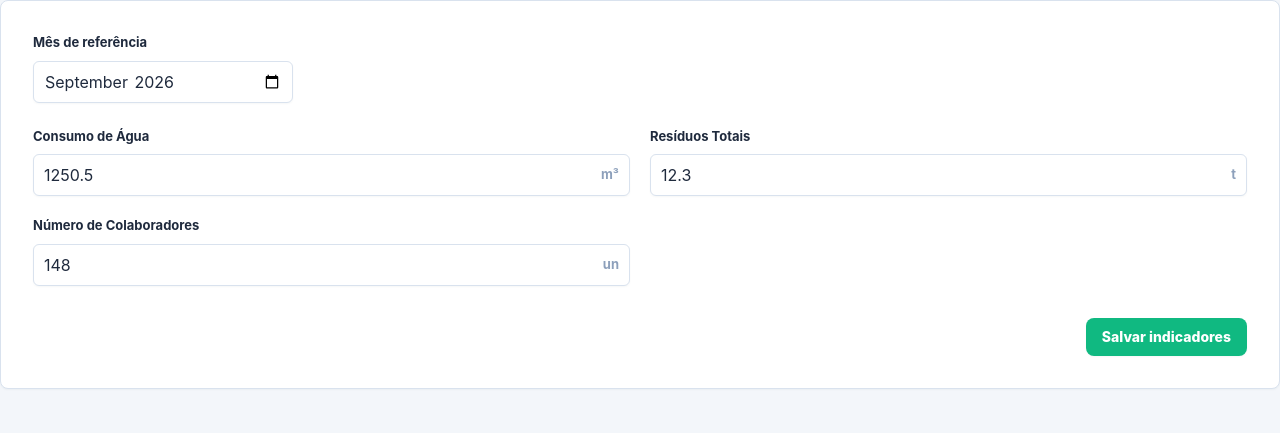
EsgIndicatorsForm › blocks negative numbers
Replace the text in the number field labelled "Consumo de Água" with "-10" at (318,175), box left=44, top=163, right=591, bottom=187
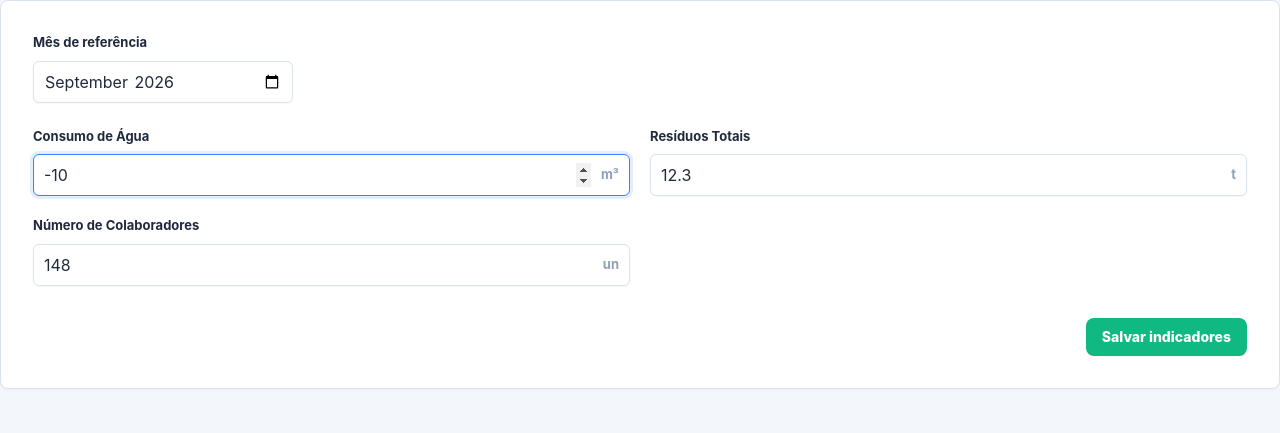
Click the button "Salvar indicadores" at (1166,336), box left=1086, top=318, right=1247, bottom=356
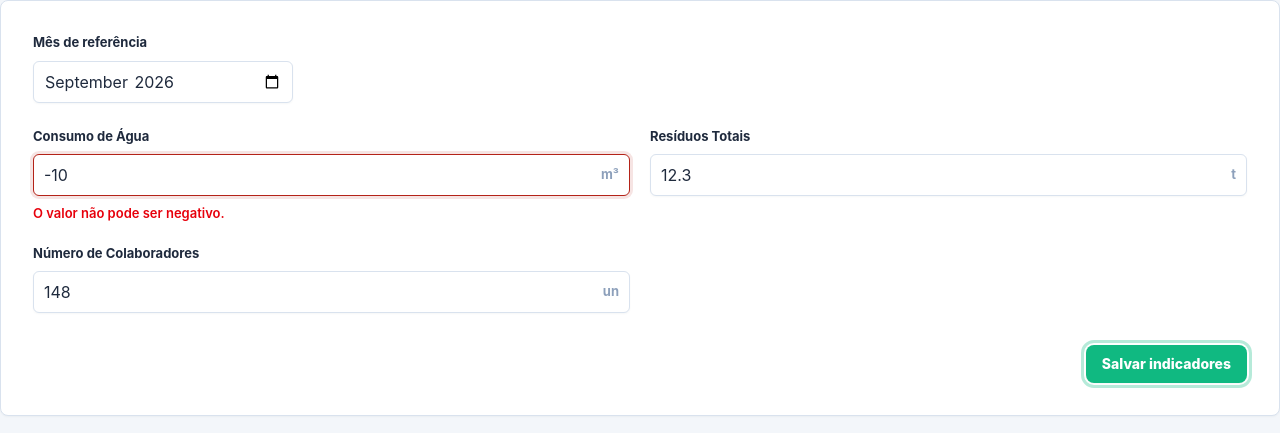
Check: the text "O valor não pode ser negativo." is shown, box left=33, top=205, right=225, bottom=221
